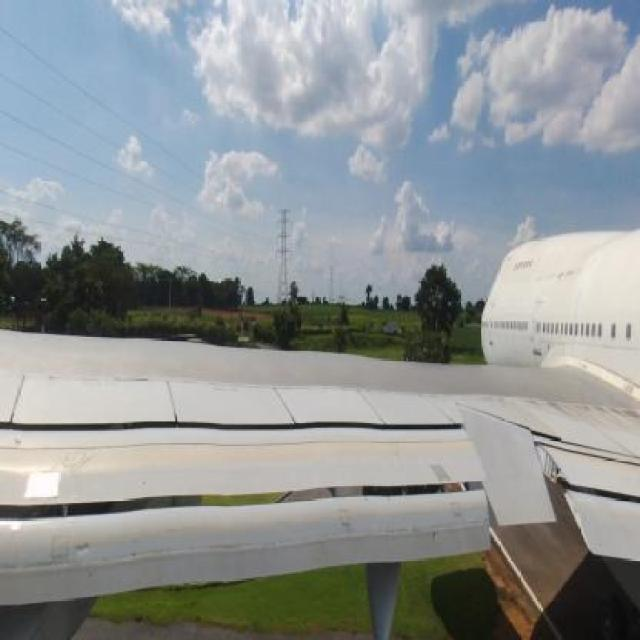Rust: (556, 268, 575, 284)
Scartch: (557, 398, 640, 437)
